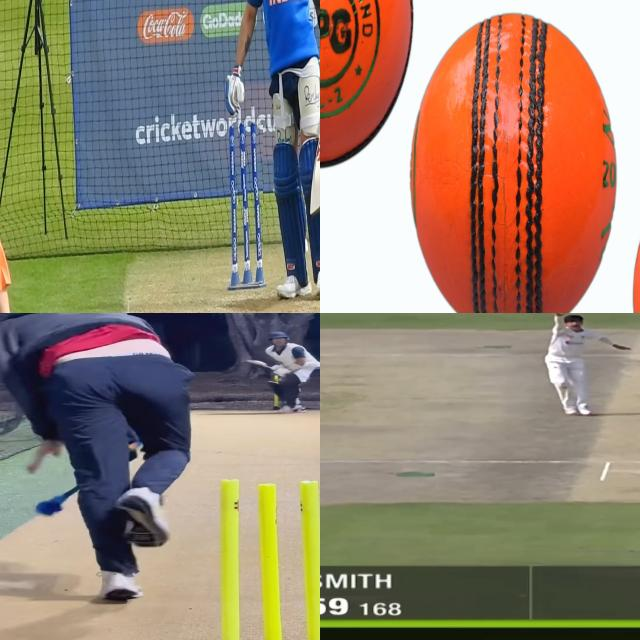Cricket ball: (410, 11, 618, 313), (320, 0, 413, 175)
Stumps: (199, 476, 320, 640), (229, 122, 263, 287)
